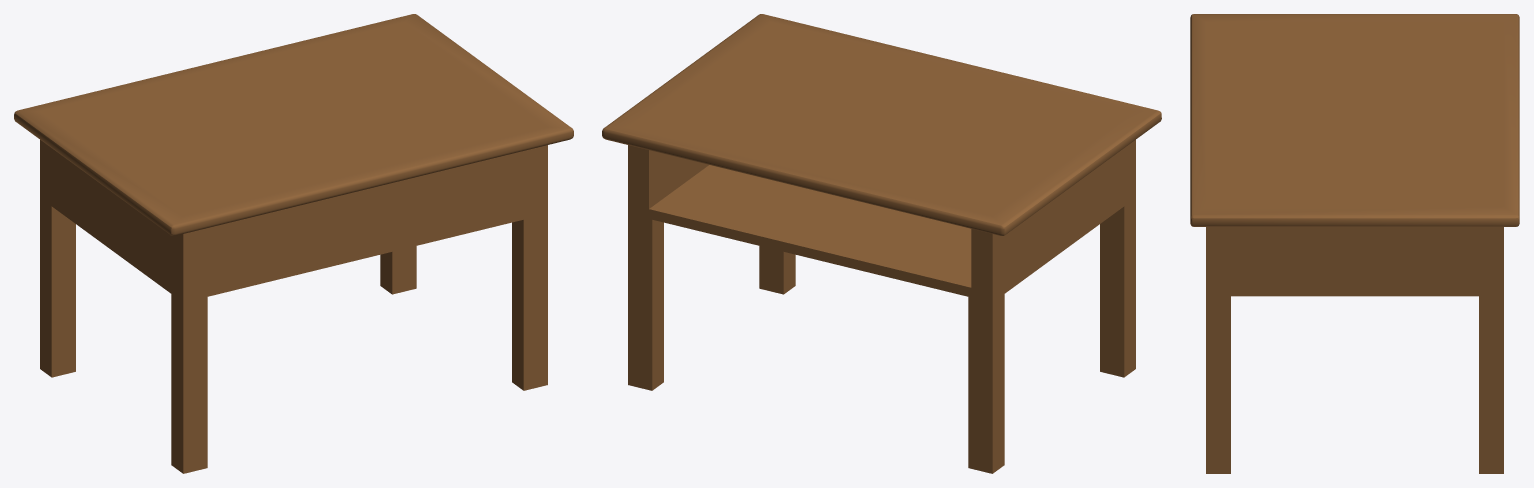
File: Table.fbx
3 renders of one model, left to right at view 1: azimuth 30°, elevation 25°; view 2: azimuth 150°, elevation 25°; view 3: azimuth 270°, elevation 25°, orthographic. The views are drawn at different scales.
Parts seen in each view (by area): view 1: Table; view 2: Table; view 3: Table.
Part boxes in pixels (x1=…): Table: x1=14, y1=14, x2=573, y2=473; Table: x1=602, y1=14, x2=1161, y2=473; Table: x1=1190, y1=14, x2=1519, y2=473.
Size of the model in its own units: 1.22 by 0.83 by 0.7425.
